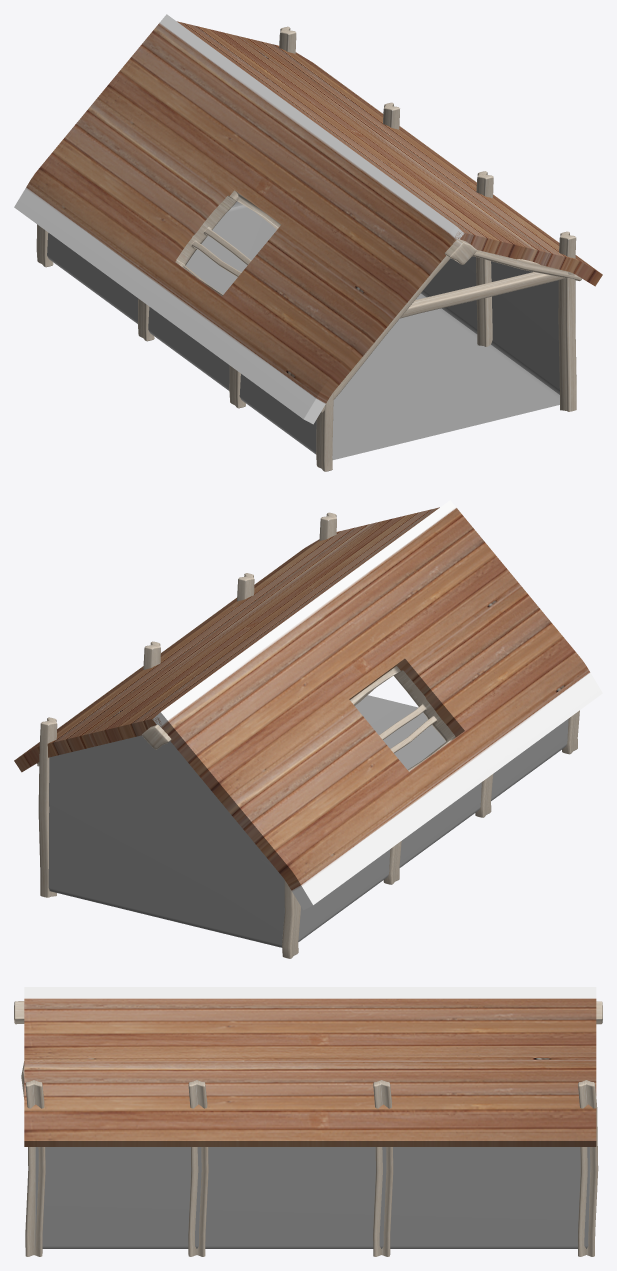
The model's file is Attic.fbx.
3 renders of one model, top to bottom at view 1: azimuth 30°, elevation 25°; view 2: azimuth 150°, elevation 25°; view 3: azimuth 270°, elevation 25°, orthographic.
Visible parts, largest first — view 1: geoRoof, geoFloorWalls, geoRoofBeams, geoWindow; view 2: geoRoof, geoFloorWalls, geoRoofBeams, geoWindow; view 3: geoRoof, geoFloorWalls, geoRoofBeams.
Part boxes in pixels (bbox=[...]): geoRoof: bbox=[14, 14, 602, 424]; geoFloorWalls: bbox=[47, 201, 559, 459]; geoRoofBeams: bbox=[36, 26, 581, 471]; geoWindow: bbox=[175, 190, 281, 295]; geoRoof: bbox=[14, 500, 602, 910]; geoFloorWalls: bbox=[48, 695, 568, 947]; geoRoofBeams: bbox=[37, 512, 579, 958]; geoWindow: bbox=[350, 666, 455, 771]; geoRoof: bbox=[24, 987, 596, 1146]; geoFloorWalls: bbox=[35, 1147, 590, 1248]; geoRoofBeams: bbox=[14, 1001, 602, 1256].
Size of the model in its own units: 566 by 391 by 977.
